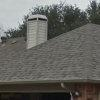Chimney: (18, 5, 61, 51)
